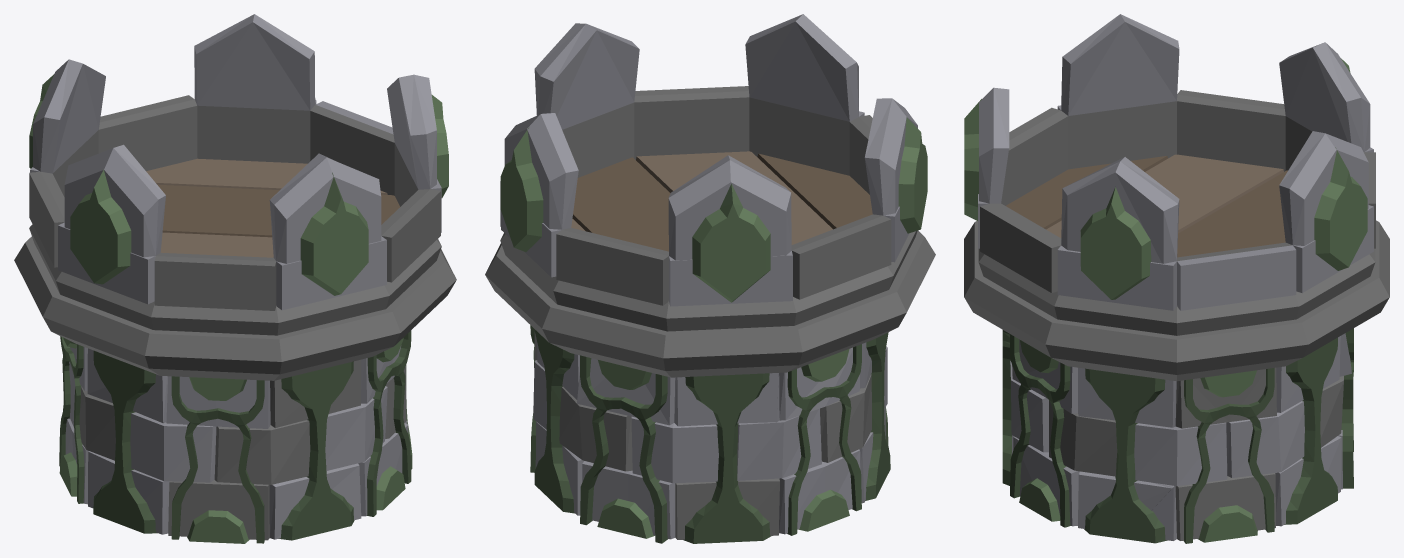
The model's file is _TOWER_4_UP_1.fbx.
3 views of the same model, side by side, from view 1: azimuth 30°, elevation 25°; view 2: azimuth 150°, elevation 25°; view 3: azimuth 270°, elevation 25° (orthographic).
Parts seen in each view (by area): view 1: TOWER_4_UP_1; view 2: TOWER_4_UP_1; view 3: TOWER_4_UP_1.
Part boxes in pixels (x1,y1,x2,y2): TOWER_4_UP_1: (14, 14, 456, 543); TOWER_4_UP_1: (485, 14, 935, 543); TOWER_4_UP_1: (964, 14, 1389, 543).
Size of the model in its own units: 773 by 726 by 735.
